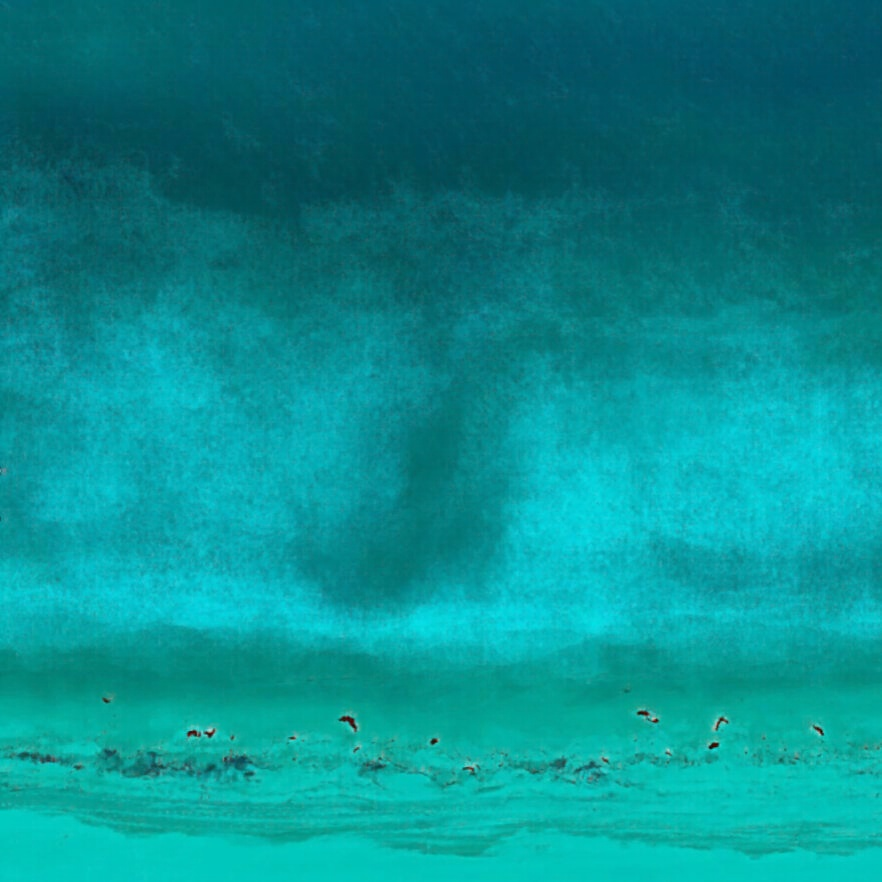rip_current: (294, 263, 525, 634)
